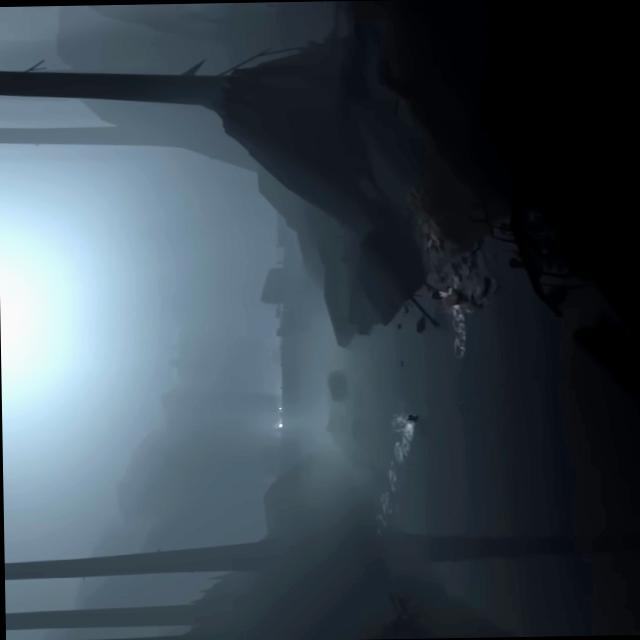boy: (428, 287, 460, 308)
